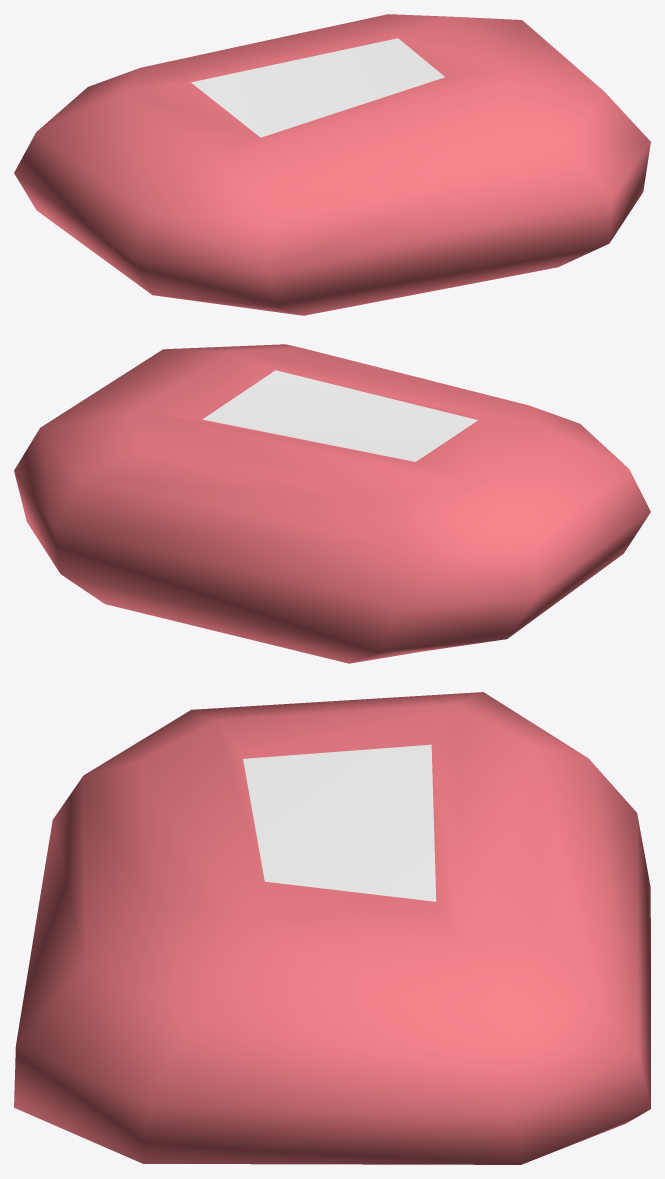
File: Props_Package_11.fbx
3 renders of one model, top to bottom at view 1: azimuth 30°, elevation 25°; view 2: azimuth 150°, elevation 25°; view 3: azimuth 270°, elevation 25°, orthographic. The views are drawn at different scales.
Visible parts, largest first — view 1: Props_Package_11; view 2: Props_Package_11; view 3: Props_Package_11.
Boxes of the visible parts, x1,y1,x2,y2 form: Props_Package_11: (14, 14, 650, 315); Props_Package_11: (14, 344, 650, 663); Props_Package_11: (14, 692, 650, 1164).
Size of the model in its own units: 63.85 by 18.36 by 47.65.
